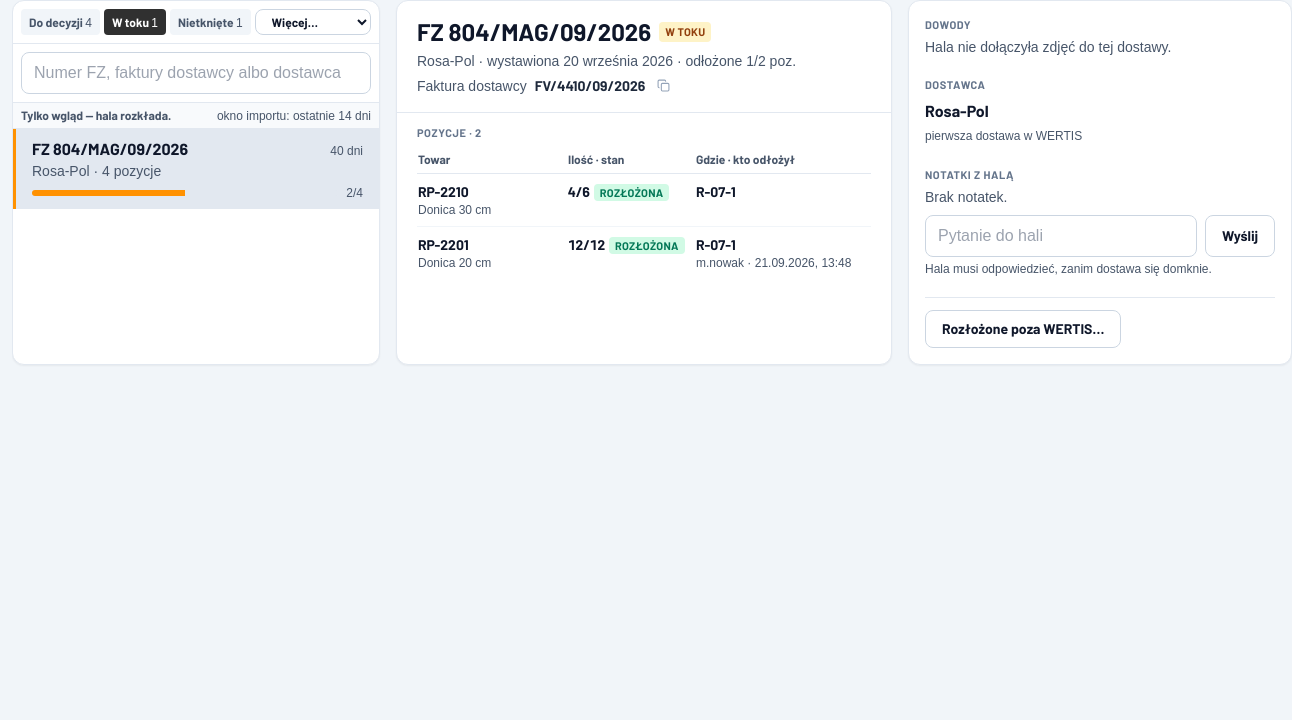
audyt ekranu dostaw › link do dokumentu otwiera jego kubełek, a zmiana kubełka zamyka sprawę spoza niego
This screenshot has width=1292, height=720.
Expected: the heading "FZ 804/MAG/09/2026" is shown, left=417, top=17, right=651, bottom=47
Expected: the button "FZ 804/MAG/09/2026 40 dni Rosa-Pol · 4 pozycje 2/4" is shown, left=13, top=129, right=379, bottom=209
Click the button "Do decyzji 4". click: (60, 22)
box: left=21, top=9, right=100, bottom=35
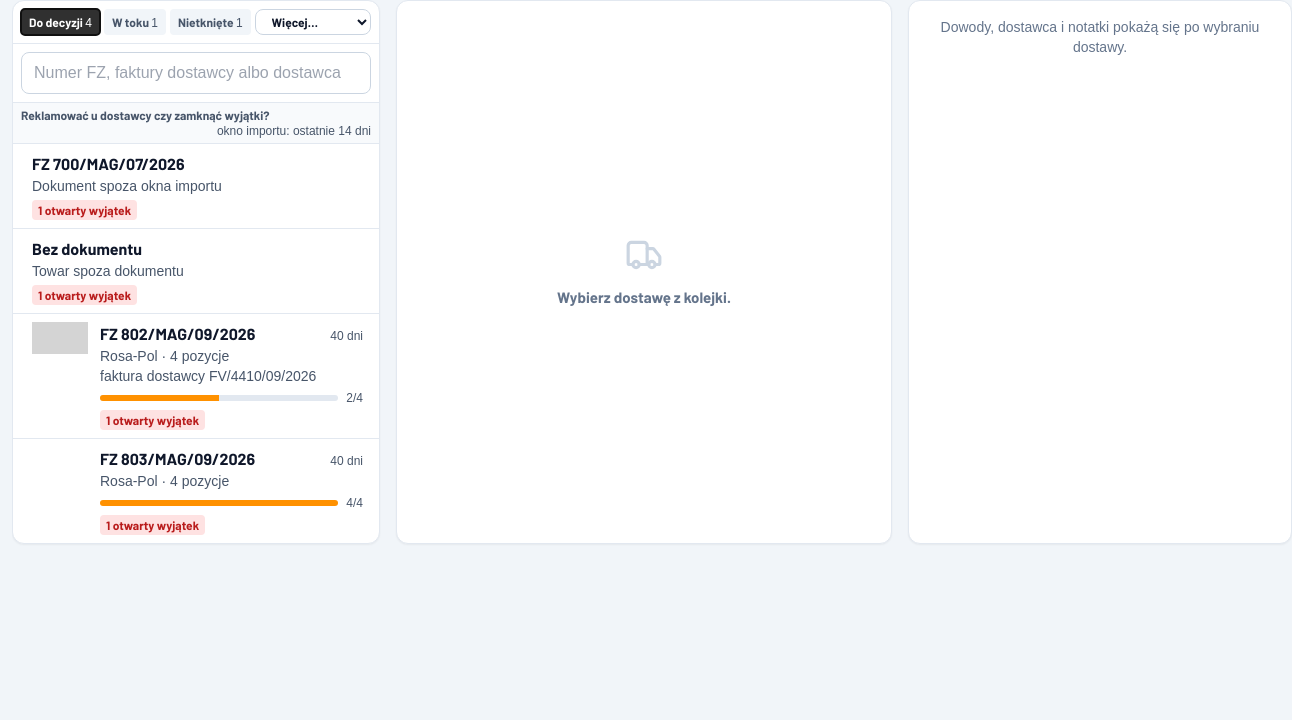
Result: the text "Wybierz dostawę z kolejki." is shown at left=557, top=286, right=731, bottom=308
Result: the button "FZ 804/MAG/09/2026" is gone
